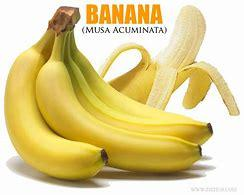banana: (0, 17, 234, 185), (41, 53, 216, 163), (1, 47, 107, 175)
